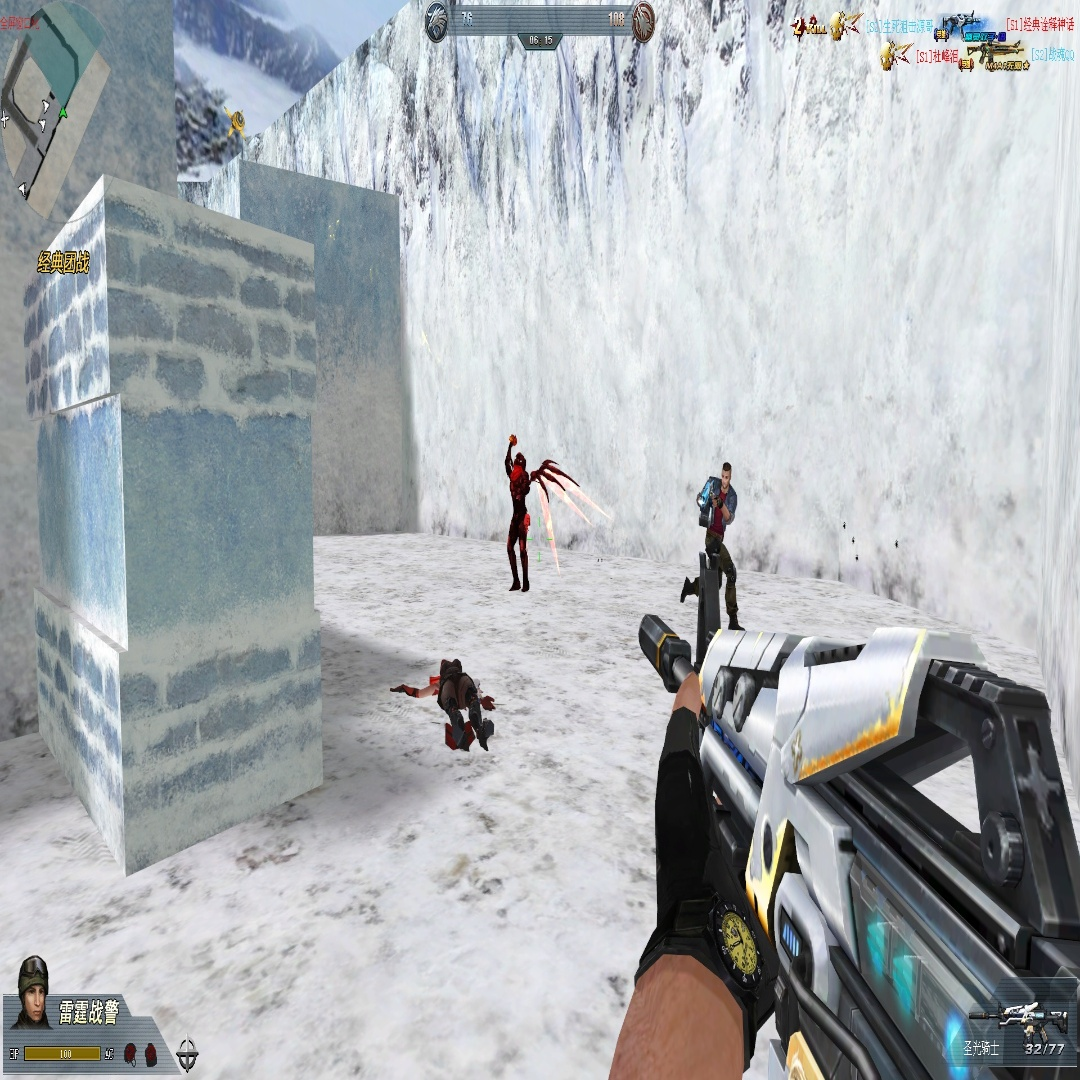head: (721, 460, 731, 492)
t: (697, 461, 741, 632)
